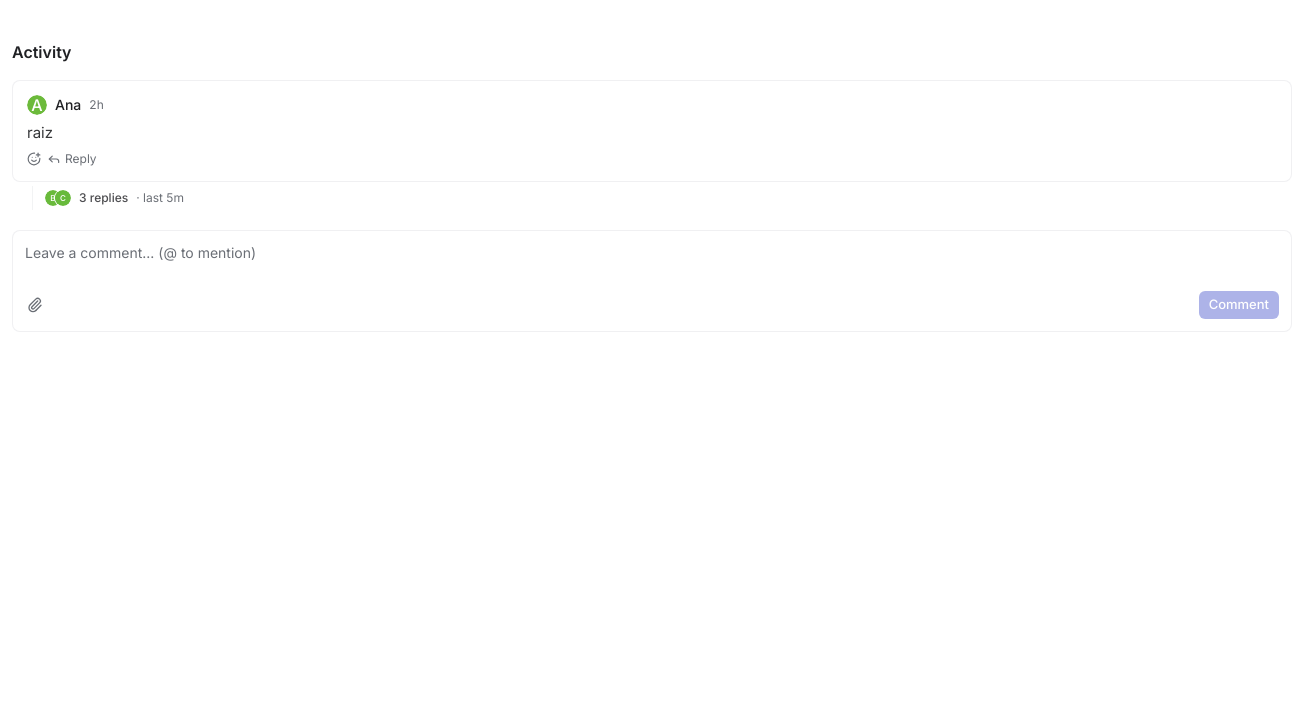
Test case: threads no feed de atividade › colapsa as respostas em "N replies · last X" quando são mais de 2 e expande ao clicar
Expected: the text "resposta um" is not shown
Click the button "B C 3 replies · last 5m" at (114, 198), box [45, 186, 184, 210]
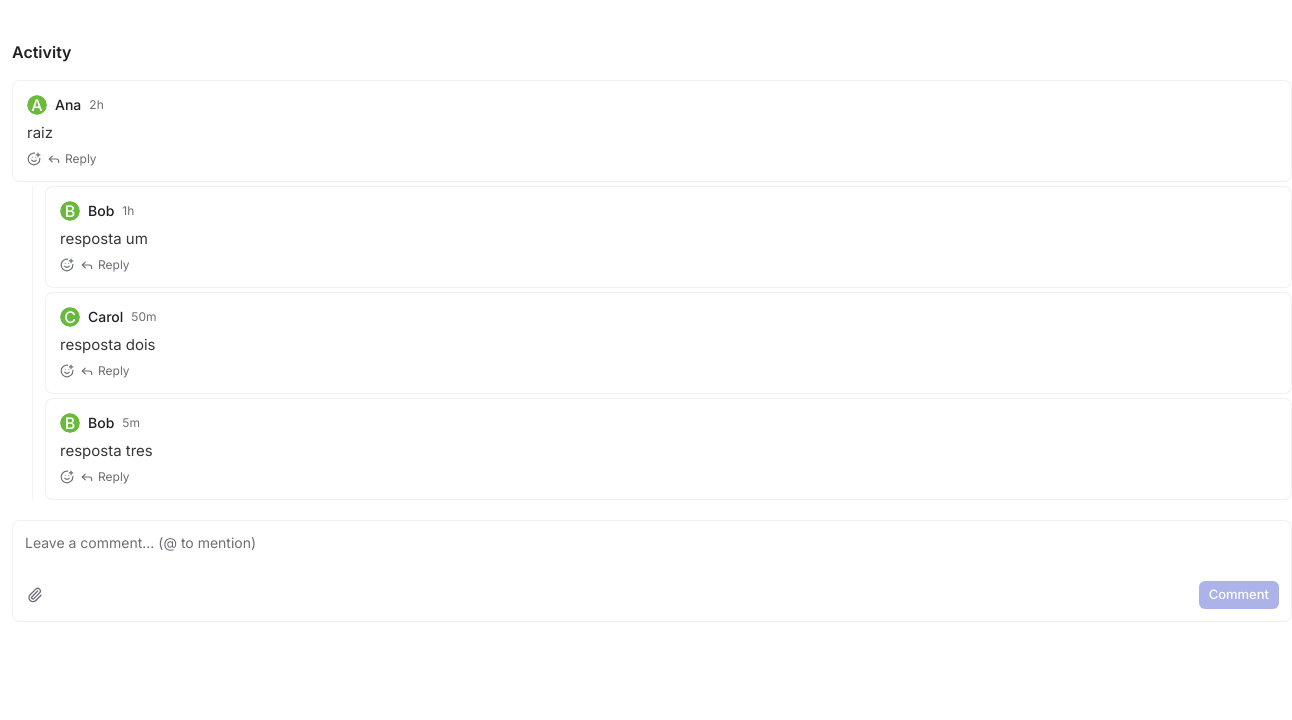
Now the text "resposta um" is shown, box [60, 229, 148, 248]
Now the text "resposta tres" is shown, box [60, 441, 153, 460]
Now the button "3 replies" is gone
